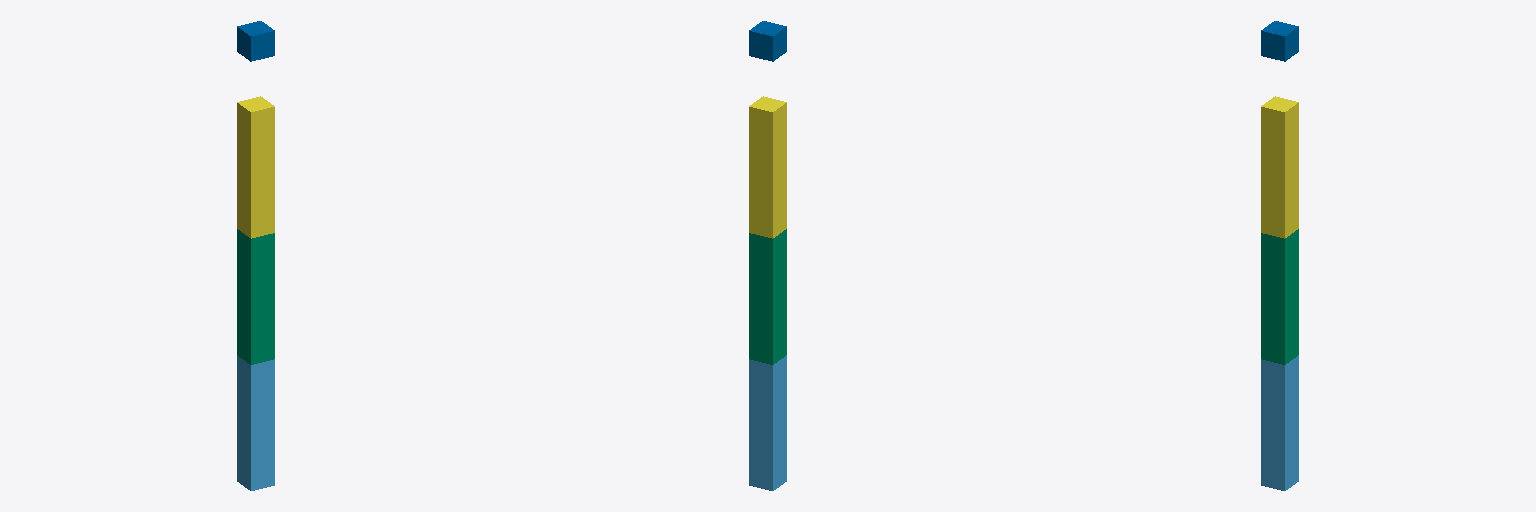
robot.urdf — lakme_bot:
<?xml version="1.0" ?>
<robot name="lakme_bot">

  <!-- Define links -->
  <link name="base_link">
    <visual>
      <geometry>
        <box size="0.1 0.1 0.1" />
      </geometry>
    </visual>
  </link>

  <link name="link1">
    <visual>
      <geometry>
        <box size="0.2 0.2 1.0" />
      </geometry>
    </visual>
  </link>

  <link name="link2">
    <visual>
      <geometry>
        <box size="0.2 0.2 1.0" />
      </geometry>
    </visual>
  </link>

  <link name="link3">
    <visual>
      <geometry>
        <box size="0.2 0.2 1.0" />
      </geometry>
    </visual>
  </link>

  <link name="end_effector">
    <visual>
      <geometry>
        <box size="0.2 0.2 0.2" />
      </geometry>
    </visual>
  </link>

  <!-- Define joints -->
  <joint name="joint1" type="revolute">
    <origin xyz="0 0 0" rpy="0 0 0" />
    <parent link="base_link" />
    <child link="link1" />
    <axis xyz="0 0 1" />
    <limit lower="-3.14" upper="3.14" />
  </joint>

  <joint name="joint2" type="revolute">
    <origin xyz="0 0 1.0" rpy="0 0 0" />
    <parent link="link1" />
    <child link="link2" />
    <axis xyz="0 0 1" />
    <limit lower="-3.14" upper="3.14" />
  </joint>

  <joint name="joint3" type="revolute">
    <origin xyz="0 0 1.0" rpy="0 0 0" />
    <parent link="link2" />
    <child link="link3" />
    <axis xyz="0 0 1" />
    <limit lower="-3.14" upper="3.14" />
  </joint>

  <joint name="joint4" type="revolute">
    <origin xyz="0 0 1.0" rpy="0 0 0" />
    <parent link="link3" />
    <child link="end_effector" />
    <axis xyz="0 0 1" />
    <limit lower="-3.14" upper="3.14" />
  </joint>

</robot>

--- What the picture shows (computed from the rendered views, not written in the file) ---
The picture shows the robot from 3 angles, left to right: view 1: azimuth 30°, elevation 25°; view 2: azimuth 150°, elevation 25°; view 3: azimuth 330°, elevation 25°; orthographic projection.
Model lakme_bot with 5 links and 4 joints (4 revolute), rooted at base_link, posed all joints at 0.
Links seen in each view (by area): view 1: link3, link2, link1, end_effector; view 2: link3, link2, link1, end_effector; view 3: link3, link2, link1, end_effector.
Link boxes in pixels (x1,y1,x2,y2): link3: [237, 96, 274, 238]; link2: [237, 229, 274, 364]; link1: [237, 355, 274, 490]; end_effector: [237, 21, 274, 61]; link3: [749, 96, 786, 238]; link2: [749, 229, 786, 364]; link1: [749, 355, 786, 490]; end_effector: [749, 21, 786, 61]; link3: [1261, 96, 1298, 238]; link2: [1261, 229, 1298, 364]; link1: [1261, 355, 1298, 490]; end_effector: [1261, 21, 1298, 61].
Size in the robot's own frame: 0.2 by 0.2 by 3.6 metres.
Geometry: primitives only (box / cylinder / sphere), no mesh files.